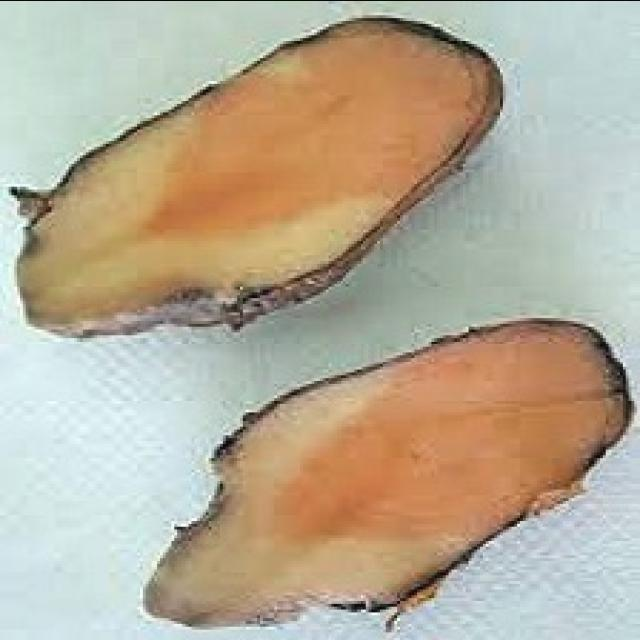pink_rot: (130, 314, 640, 640), (9, 13, 505, 345)
